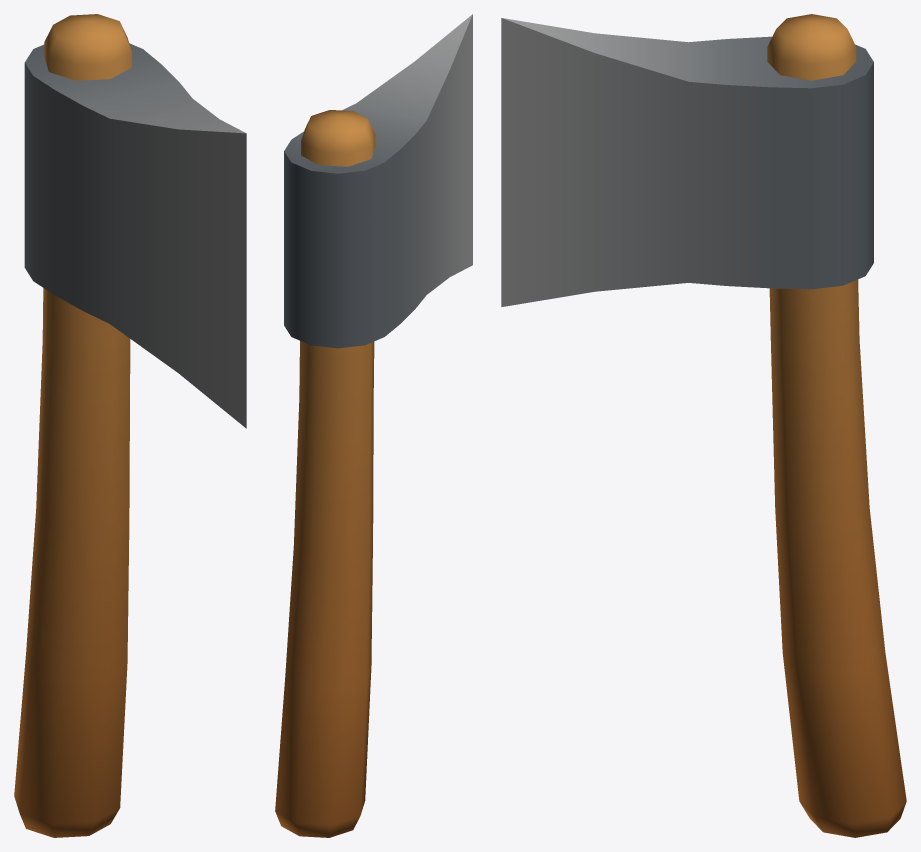
The model's file is Axe.fbx.
3 renders of one model, left to right at view 1: azimuth 30°, elevation 25°; view 2: azimuth 150°, elevation 25°; view 3: azimuth 270°, elevation 25°, orthographic. The views are drawn at different scales.
Visible parts, largest first — view 1: Axe; view 2: Axe; view 3: Axe.
Part boxes in pixels (x1,y1,x2,y2): Axe: (14, 14, 246, 837); Axe: (275, 14, 472, 837); Axe: (501, 14, 906, 837).
Bounding box in the file's own units: 14 × 100 × 45.7.
